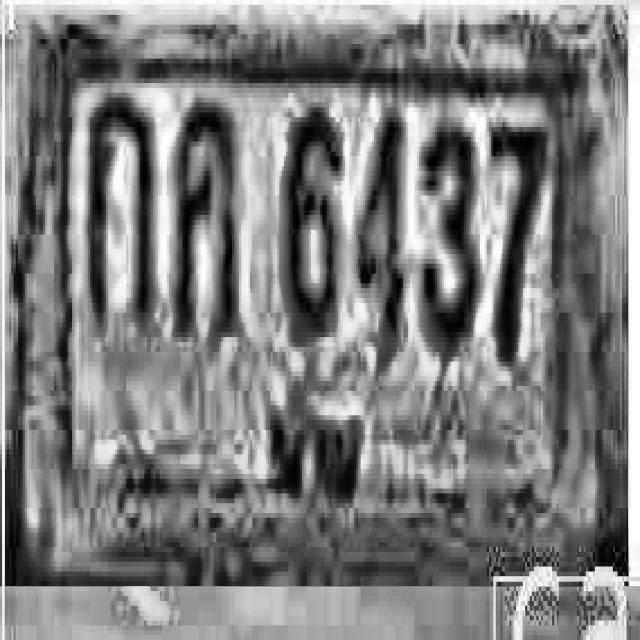license-plate: (22, 7, 622, 584)
